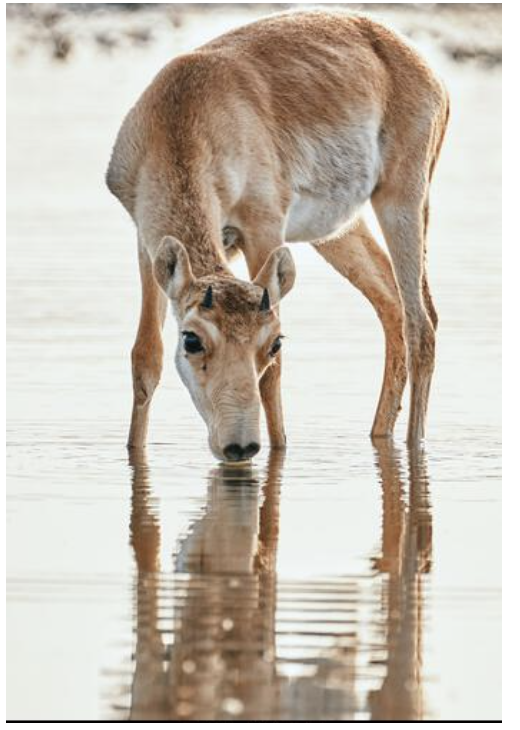saiga: (94, 9, 460, 495)
